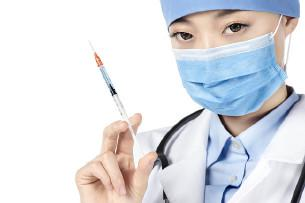OK: (165, 2, 277, 114)
